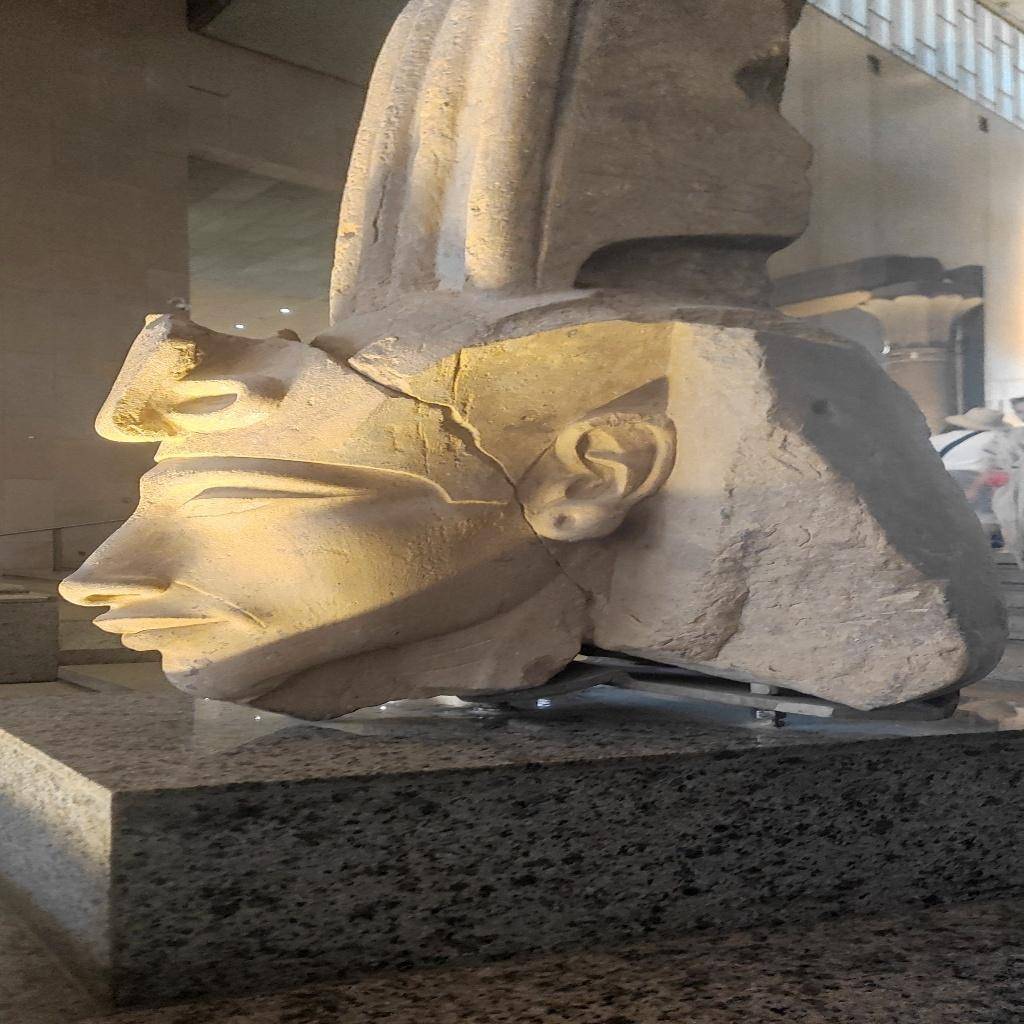Statue Head of Akhenaten: (55, 297, 1007, 722)
